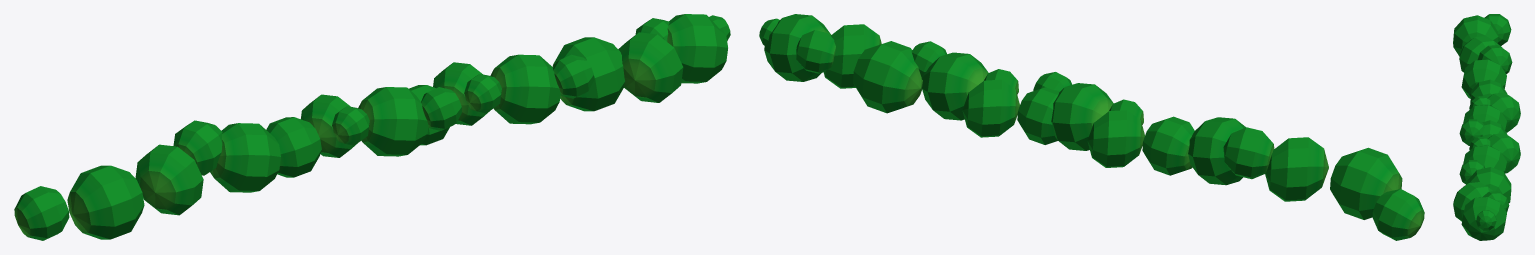
3 views of the same model, side by side, from view 1: azimuth 30°, elevation 25°; view 2: azimuth 150°, elevation 25°; view 3: azimuth 270°, elevation 25° (orthographic). The views are drawn at different scales.
Visible parts, largest first — view 1: Bushes_3_2; view 2: Bushes_3_2; view 3: Bushes_3_2.
Boxes of the visible parts, x1=… form: Bushes_3_2: x1=14, y1=14, x2=730, y2=240; Bushes_3_2: x1=759, y1=14, x2=1424, y2=240; Bushes_3_2: x1=1453, y1=14, x2=1520, y2=240.
Bounding box in the file's own units: 537 × 55.23 × 71.2.
